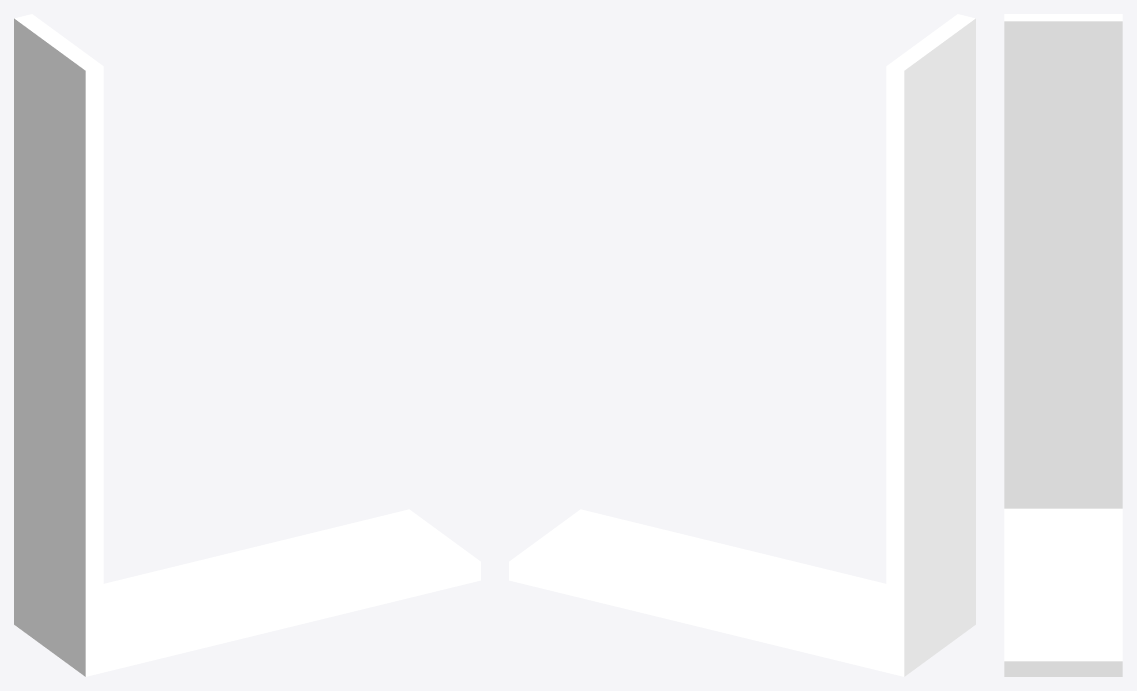
3 renders of one model, left to right at view 1: azimuth 30°, elevation 25°; view 2: azimuth 150°, elevation 25°; view 3: azimuth 270°, elevation 25°, orthographic. The views are drawn at different scales.
Visible parts, largest first — view 1: l_AlphaProta_White; view 2: l_AlphaProta_White; view 3: l_AlphaProta_White.
Part boxes in pixels (bbox=[...]): l_AlphaProta_White: bbox=[14, 14, 480, 676]; l_AlphaProta_White: bbox=[509, 14, 975, 676]; l_AlphaProta_White: bbox=[1004, 14, 1122, 676].
Size of what is drawn, in the model's own units: 0.1436 by 0.2105 by 0.045.
2 materials, 2 textured.
